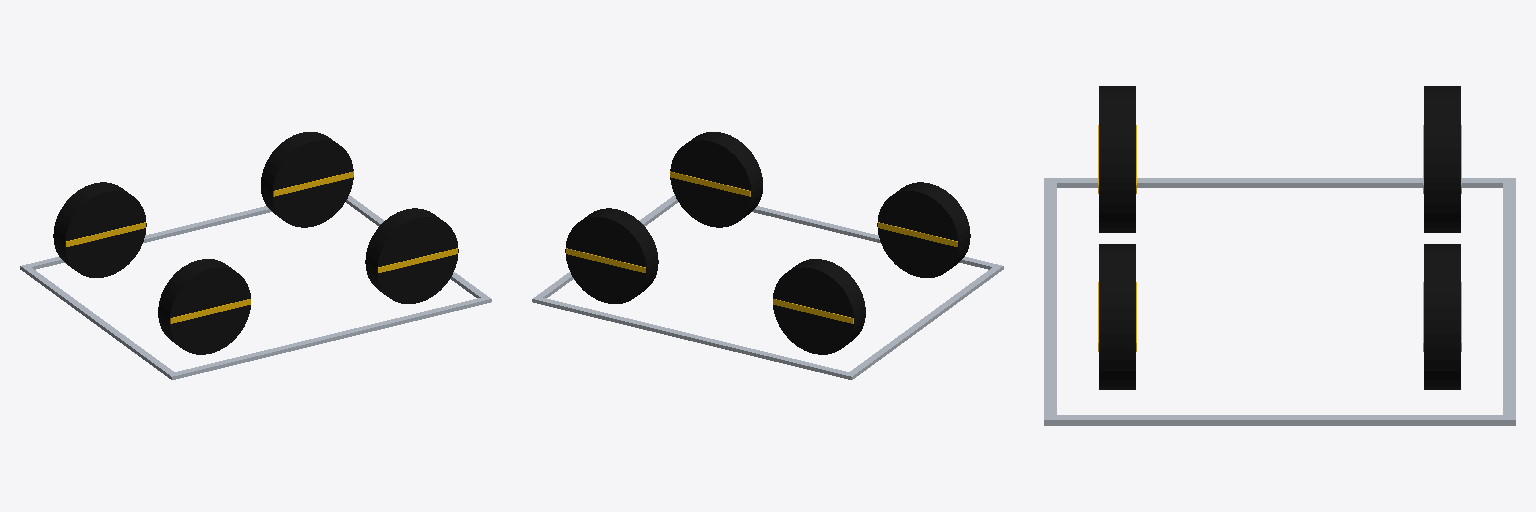
URDF robot description (swerve_robot):
<?xml version="1.0"?>
<!--
  Swerve base: footprint outline plus four steerable roller wheels (plain cylinders). base_link is the ground-projected
  centre between the wheels, so z = 0 is the floor and a wheel axle is one radius above it.

  Real geometry (ansible/group_vars/client.yml, swerve_controller and mcp_server footprint):
    - steering axes at x +-0.1525, y +-0.1333 (half_length_m, half_width_m), wheel radius 0.06 m
    - outer footprint 0.47 x 0.386 m
  Estimates (not measured, adjust here only): wheel width 0.03 m.

  Joint names are the /swerve_drive/joint_states names. <module>_steer: rad, positive = CCW seen from above (URDF +z),
  0 = straight ahead. <module>_drive: rad about the axle (+y), positive = rolling forward; the topic carries wheel
  speed only, so the frontend integrates JointState.velocity into this angle (frontend/src/map3d/baseJoints.ts).
-->
<robot name="swerve_robot">

  <material name="body_grey"><color rgba="0.75 0.78 0.82 1.0"/></material>
  <material name="tyre"><color rgba="0.12 0.12 0.12 1.0"/></material>
  <material name="stripe"><color rgba="0.95 0.75 0.1 1.0"/></material>

  <!-- Body: no solid placeholder, only the 0.47 x 0.386 m outer footprint as an outline on the floor
       (four bars 0.01 m wide, 0.005 m high; outer edges = footprint). -->
  <link name="base_link">
    <visual>
      <origin xyz="0.230 0 0.0025" rpy="0 0 0"/>
      <geometry><box size="0.01 0.386 0.005"/></geometry>
      <material name="body_grey"/>
    </visual>
    <visual>
      <origin xyz="-0.230 0 0.0025" rpy="0 0 0"/>
      <geometry><box size="0.01 0.386 0.005"/></geometry>
      <material name="body_grey"/>
    </visual>
    <visual>
      <origin xyz="0 0.188 0.0025" rpy="0 0 0"/>
      <geometry><box size="0.47 0.01 0.005"/></geometry>
      <material name="body_grey"/>
    </visual>
    <visual>
      <origin xyz="0 -0.188 0.0025" rpy="0 0 0"/>
      <geometry><box size="0.47 0.01 0.005"/></geometry>
      <material name="body_grey"/>
    </visual>
  </link>

  <!-- Front-Left -->
  <link name="fl_steer_link"/>
  <joint name="fl_steer" type="revolute">
    <parent link="base_link"/>
    <child link="fl_steer_link"/>
    <origin xyz="0.1525 0.1333 0.06" rpy="0 0 0"/>
    <axis xyz="0 0 1"/>
    <limit lower="-1.5708" upper="1.5708" effort="10" velocity="5"/>
  </joint>

  <link name="fl_wheel_link">
    <visual>
      <origin xyz="0 0 0" rpy="1.5708 0 0"/>
      <geometry><cylinder radius="0.06" length="0.03"/></geometry>
      <material name="tyre"/>
    </visual>
    <!-- Contrasting bar across the tread so the rotation is visible. -->
    <visual>
      <origin xyz="0 0 0" rpy="0 0 0"/>
      <geometry><box size="0.118 0.032 0.008"/></geometry>
      <material name="stripe"/>
    </visual>
  </link>
  <joint name="fl_drive" type="continuous">
    <parent link="fl_steer_link"/>
    <child link="fl_wheel_link"/>
    <origin xyz="0 0 0" rpy="0 0 0"/>
    <axis xyz="0 1 0"/>
  </joint>

  <!-- Front-Right -->
  <link name="fr_steer_link"/>
  <joint name="fr_steer" type="revolute">
    <parent link="base_link"/>
    <child link="fr_steer_link"/>
    <origin xyz="0.1525 -0.1333 0.06" rpy="0 0 0"/>
    <axis xyz="0 0 1"/>
    <limit lower="-1.5708" upper="1.5708" effort="10" velocity="5"/>
  </joint>

  <link name="fr_wheel_link">
    <visual>
      <origin xyz="0 0 0" rpy="1.5708 0 0"/>
      <geometry><cylinder radius="0.06" length="0.03"/></geometry>
      <material name="tyre"/>
    </visual>
    <!-- Contrasting bar across the tread so the rotation is visible. -->
    <visual>
      <origin xyz="0 0 0" rpy="0 0 0"/>
      <geometry><box size="0.118 0.032 0.008"/></geometry>
      <material name="stripe"/>
    </visual>
  </link>
  <joint name="fr_drive" type="continuous">
    <parent link="fr_steer_link"/>
    <child link="fr_wheel_link"/>
    <origin xyz="0 0 0" rpy="0 0 0"/>
    <axis xyz="0 1 0"/>
  </joint>

  <!-- Rear-Left -->
  <link name="rl_steer_link"/>
  <joint name="rl_steer" type="revolute">
    <parent link="base_link"/>
    <child link="rl_steer_link"/>
    <origin xyz="-0.1525 0.1333 0.06" rpy="0 0 0"/>
    <axis xyz="0 0 1"/>
    <limit lower="-1.5708" upper="1.5708" effort="10" velocity="5"/>
  </joint>

  <link name="rl_wheel_link">
    <visual>
      <origin xyz="0 0 0" rpy="1.5708 0 0"/>
      <geometry><cylinder radius="0.06" length="0.03"/></geometry>
      <material name="tyre"/>
    </visual>
    <!-- Contrasting bar across the tread so the rotation is visible. -->
    <visual>
      <origin xyz="0 0 0" rpy="0 0 0"/>
      <geometry><box size="0.118 0.032 0.008"/></geometry>
      <material name="stripe"/>
    </visual>
  </link>
  <joint name="rl_drive" type="continuous">
    <parent link="rl_steer_link"/>
    <child link="rl_wheel_link"/>
    <origin xyz="0 0 0" rpy="0 0 0"/>
    <axis xyz="0 1 0"/>
  </joint>

  <!-- Rear-Right -->
  <link name="rr_steer_link"/>
  <joint name="rr_steer" type="revolute">
    <parent link="base_link"/>
    <child link="rr_steer_link"/>
    <origin xyz="-0.1525 -0.1333 0.06" rpy="0 0 0"/>
    <axis xyz="0 0 1"/>
    <limit lower="-1.5708" upper="1.5708" effort="10" velocity="5"/>
  </joint>

  <link name="rr_wheel_link">
    <visual>
      <origin xyz="0 0 0" rpy="1.5708 0 0"/>
      <geometry><cylinder radius="0.06" length="0.03"/></geometry>
      <material name="tyre"/>
    </visual>
    <!-- Contrasting bar across the tread so the rotation is visible. -->
    <visual>
      <origin xyz="0 0 0" rpy="0 0 0"/>
      <geometry><box size="0.118 0.032 0.008"/></geometry>
      <material name="stripe"/>
    </visual>
  </link>
  <joint name="rr_drive" type="continuous">
    <parent link="rr_steer_link"/>
    <child link="rr_wheel_link"/>
    <origin xyz="0 0 0" rpy="0 0 0"/>
    <axis xyz="0 1 0"/>
  </joint>

</robot>

--- Render facts (derived) ---
3 views of the same robot in one strip: view 1: azimuth 30°, elevation 25°; view 2: azimuth 150°, elevation 25°; view 3: azimuth 270°, elevation 25° (orthographic).
Model swerve_robot with 9 links and 8 joints (4 revolute, 4 continuous), rooted at base_link, posed every joint at zero.
Visible links, largest first — view 1: rr_wheel_link, fl_wheel_link, rl_wheel_link, fr_wheel_link, base_link; view 2: rl_wheel_link, fr_wheel_link, rr_wheel_link, fl_wheel_link, base_link; view 3: base_link, rl_wheel_link, rr_wheel_link, fl_wheel_link, fr_wheel_link.
Boxes of the visible links, <box> form: rr_wheel_link: <box>158,259,250,354</box>; fl_wheel_link: <box>261,132,353,227</box>; rl_wheel_link: <box>53,182,146,277</box>; fr_wheel_link: <box>365,208,458,303</box>; base_link: <box>20,195,491,379</box>; rl_wheel_link: <box>773,259,865,354</box>; fr_wheel_link: <box>670,132,762,227</box>; rr_wheel_link: <box>877,182,970,277</box>; fl_wheel_link: <box>565,208,658,303</box>; base_link: <box>532,195,1003,379</box>; base_link: <box>1044,178,1515,425</box>; rl_wheel_link: <box>1423,86,1461,232</box>; rr_wheel_link: <box>1098,86,1136,232</box>; fl_wheel_link: <box>1423,244,1461,389</box>; fr_wheel_link: <box>1098,244,1136,389</box>.
Bounding box of the posed robot: 0.47 × 0.386 × 0.12 m (x, y, z).
Geometry: primitives only (box / cylinder / sphere), no mesh files.
